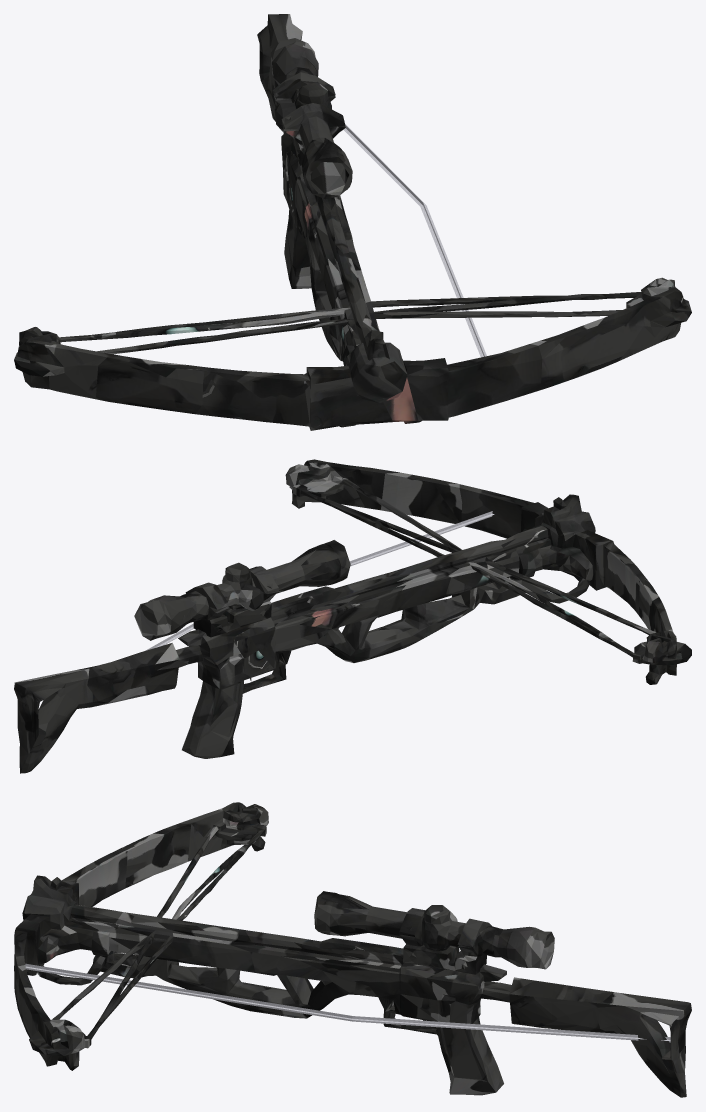
File: crossbow_pulling_0.obj
3 views of the same model, one above another, from view 1: azimuth 30°, elevation 25°; view 2: azimuth 150°, elevation 25°; view 3: azimuth 270°, elevation 25° (orthographic). The views are drawn at different scales.
Visible parts, largest first — view 1: crossbow; view 2: crossbow; view 3: crossbow.
Boxes of the visible parts, x1,y1,x2,y2 form: crossbow: (14, 14, 691, 430); crossbow: (14, 459, 691, 773); crossbow: (14, 802, 691, 1097).
Size of the model in its own units: 0.8175 by 0.2903 by 0.9801.
